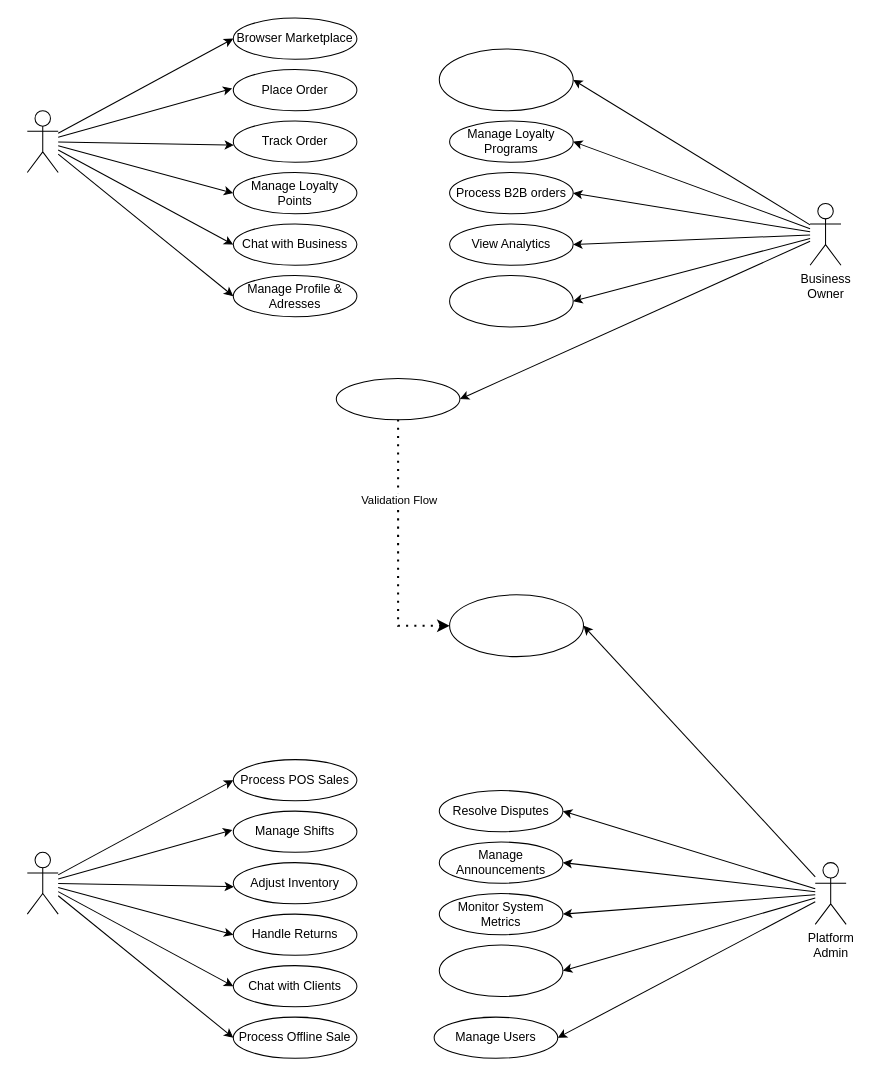
Image size: 871x1076. Some labels were removed from this diagram. Each missing label, with the centre of its shape:
Business Worker: point (42, 882)
Client: point (42, 141)
Complete KYC Verification: point (397, 398)
Configure Payments Methods: point (505, 79)
Configure Platform Settings: point (500, 970)
Manage Products & Inventory: point (511, 300)
Verify KYC Submissions: point (516, 625)
